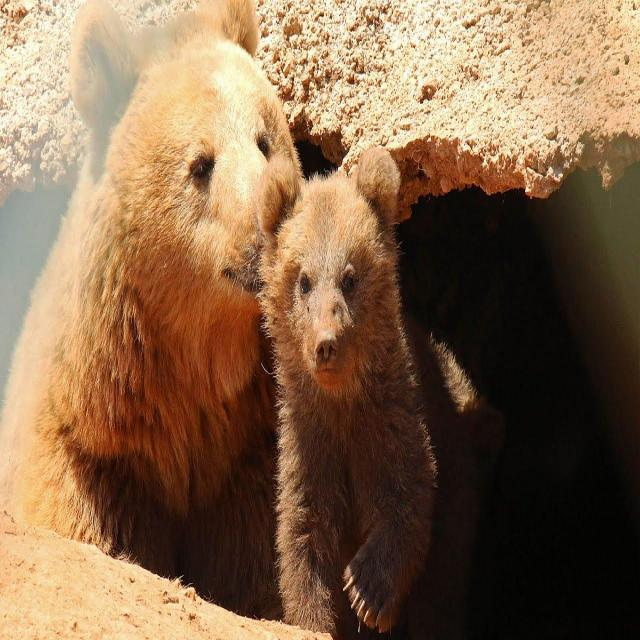Bear: (0, 0, 302, 623), (263, 170, 489, 640)
